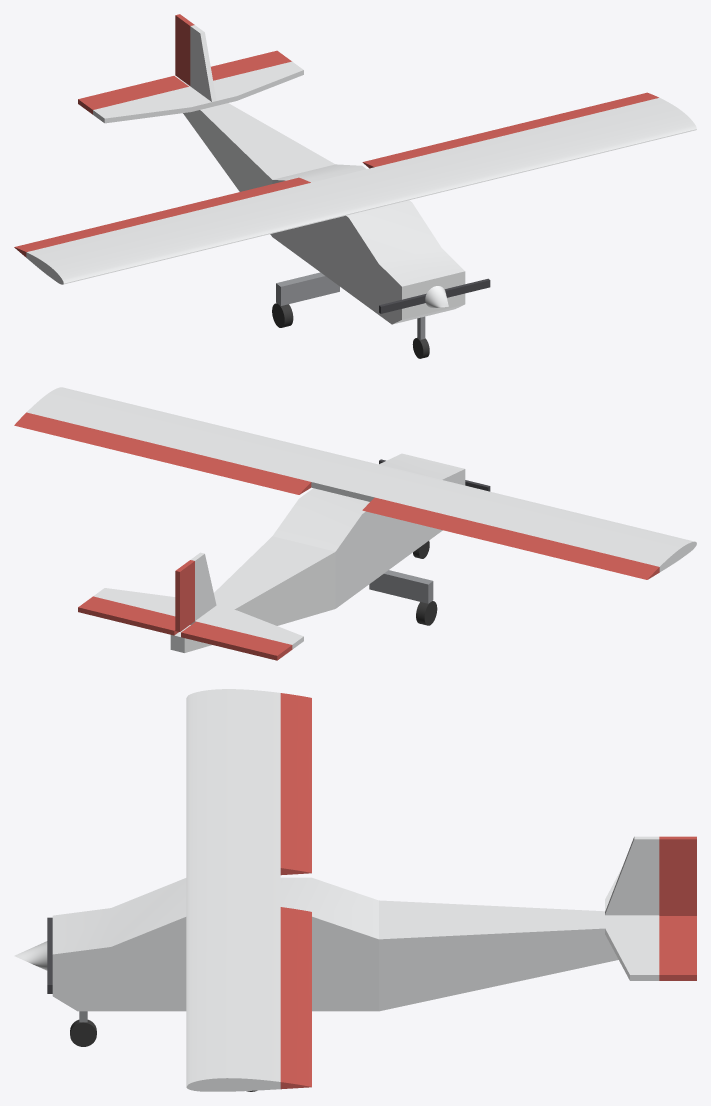
The model's file is light_aircraft.glb.
3 renders of one model, top to bottom at view 1: azimuth 30°, elevation 25°; view 2: azimuth 150°, elevation 25°; view 3: azimuth 270°, elevation 25°, orthographic. The views are drawn at different scales.
Parts seen in each view (by area): view 1: wing, fuselage_cabin, fuselage_tailcone, stabilizer, elevator_r, gear_main_r, fin, aileron_r, aileron_l, flap_l, flap_r, elevator_l (+2 smaller); view 2: wing, fuselage_cabin, fuselage_tailcone, stabilizer, aileron_r, aileron_l, flap_l, flap_r, elevator_r, elevator_l, gear_main_r, rudder (+2 smaller); view 3: wing, fuselage_cabin, fuselage_tailcone, fin, stabilizer, aileron_l, rudder, aileron_r, flap_r, flap_l, elevator_l.
Boxes of the visible parts, x1,y1,x2,y2 form: wing: (26, 97, 696, 284); fuselage_cabin: (272, 164, 465, 324); fuselage_tailcone: (179, 79, 335, 236); stabilizer: (93, 61, 303, 123); elevator_r: (78, 76, 188, 114); gear_main_r: (276, 272, 339, 305); fin: (190, 25, 216, 101); aileron_r: (14, 210, 175, 257); aileron_l: (498, 92, 658, 133); flap_l: (362, 129, 509, 168); flap_r: (164, 177, 310, 215); elevator_l: (211, 50, 291, 80); wing: (26, 387, 696, 572); fuselage_cabin: (272, 453, 465, 608); fuselage_tailcone: (170, 536, 335, 652); stabilizer: (93, 588, 303, 649); aileron_r: (497, 530, 659, 579); aileron_l: (14, 412, 175, 461); flap_l: (164, 449, 311, 494); flap_r: (362, 497, 509, 543); elevator_r: (181, 621, 292, 660); elevator_l: (78, 596, 178, 635); gear_main_r: (369, 570, 433, 603); rudder: (175, 560, 194, 631); wing: (186, 689, 280, 1091); fuselage_cabin: (52, 877, 378, 1011); fuselage_tailcone: (379, 900, 618, 1011); fin: (605, 836, 659, 915); stabilizer: (605, 868, 659, 980); aileron_l: (280, 990, 311, 1089); rudder: (659, 836, 696, 915); aileron_r: (280, 693, 311, 789); flap_r: (280, 785, 311, 875); flap_l: (280, 907, 311, 994); elevator_l: (659, 916, 696, 980).
Bounding box in the file's own units: 11 × 2.73 × 8.16.
